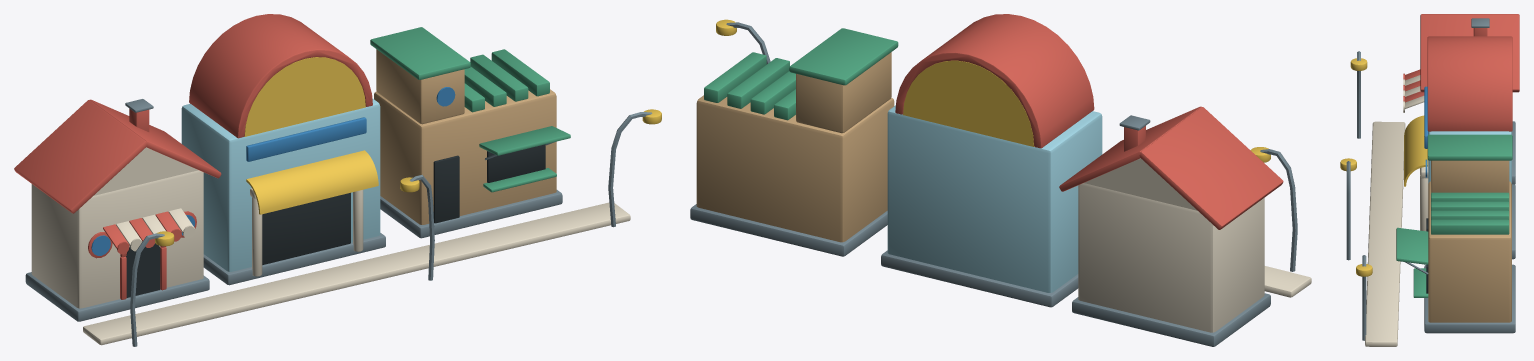
The model's file is playroom-child-town-pack.glb.
3 renders of one model, left to right at view 1: azimuth 30°, elevation 25°; view 2: azimuth 150°, elevation 25°; view 3: azimuth 270°, elevation 25°, orthographic. The views are drawn at different scales.
Parts seen in each view (by area): view 1: Clean aged cream vinyl.001, Sun-faded red plastic.001, Pale sealed wood, Sky wallpaper face, Worn warm yellow plastic.001, Painted maintenance steel, Deep opening, Soft green plastic.001, Faded blue plastic.001; view 2: Sky wallpaper face, Pale sealed wood, Clean aged cream vinyl.001, Sun-faded red plastic.001, Painted maintenance steel, Soft green plastic.001, Worn warm yellow plastic.001; view 3: Sun-faded red plastic.001, Pale sealed wood, Clean aged cream vinyl.001, Soft green plastic.001, Painted maintenance steel, Worn warm yellow plastic.001, Sky wallpaper face, Faded blue plastic.001.
Part boxes in pixels (x1,y1,x2,y2): Clean aged cream vinyl.001: (31,147,630,345); Sun-faded red plastic.001: (14,14,372,299); Pale sealed wood: (374,49,556,224); Sky wallpaper face: (181,98,380,271); Worn warm yellow plastic.001: (155,57,661,246); Painted maintenance steel: (25,99,652,346); Deep opening: (126,144,545,297); Soft green plastic.001: (370,27,570,192); Faded blue plastic.001: (91,87,455,255); Sky wallpaper face: (887,105,1102,292); Pale sealed wood: (696,52,894,242); Clean aged cream vinyl.001: (1078,158,1311,332); Sun-faded red plastic.001: (895,14,1283,229); Painted maintenance steel: (690,22,1297,346); Soft green plastic.001: (704,28,898,120); Worn warm yellow plastic.001: (716,19,1270,162); Sun-faded red plastic.001: (1403,14,1519,131); Pale sealed wood: (1428,160,1511,322); Clean aged cream vinyl.001: (1365,75,1428,346); Soft green plastic.001: (1396,134,1512,297); Painted maintenance steel: (1346,18,1515,340); Worn warm yellow plastic.001: (1340,58,1427,276); Sky wallpaper face: (1428,131,1511,183); Faded blue plastic.001: (1424,86,1428,177).
Size of the model in its own units: 21.15 by 7.78 by 6.87.
